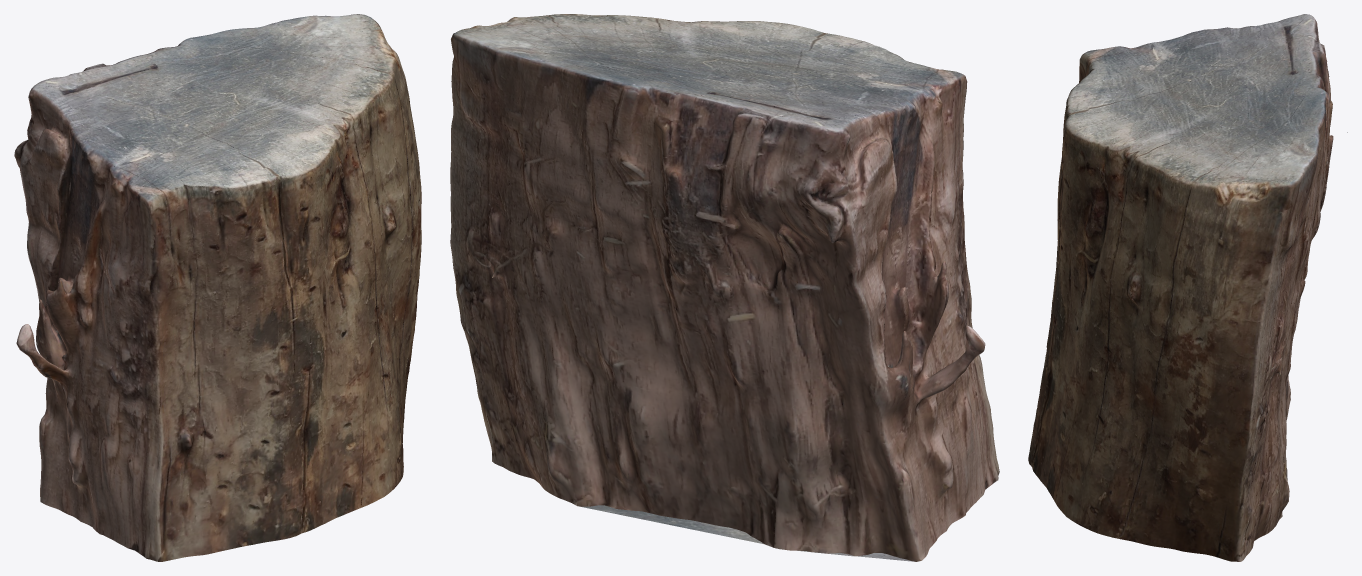
The model's file is halfLog.fbx.
The picture shows the model from 3 angles, left to right: view 1: azimuth 30°, elevation 25°; view 2: azimuth 150°, elevation 25°; view 3: azimuth 270°, elevation 25°; orthographic projection. The views are drawn at different scales.
Parts seen in each view (by area): view 1: Retopo_3DModel_mesh; view 2: Retopo_3DModel_mesh; view 3: Retopo_3DModel_mesh.
Boxes of the visible parts, left/top/right/bottom form: Retopo_3DModel_mesh: left=14, top=14, right=421, bottom=561; Retopo_3DModel_mesh: left=450, top=14, right=999, bottom=561; Retopo_3DModel_mesh: left=1028, top=14, right=1347, bottom=561.
Bounding box in the file's own units: 53.6 × 46.46 × 34.46.
1 material, 1 textured.
